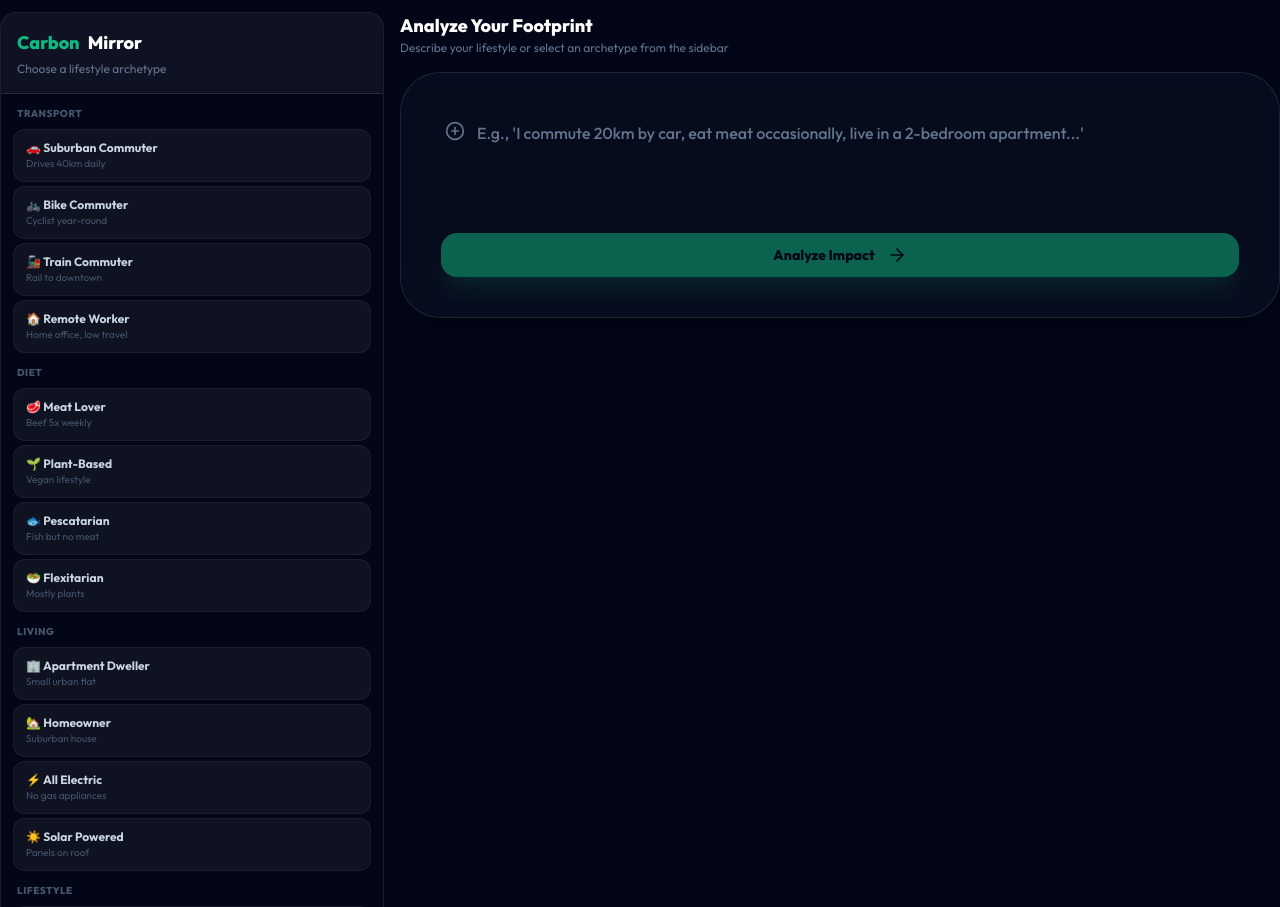
FootprintTab › displays reasoning steps during loading
Replace the text in the text box with placeholder "commute 20km" with "test" at point(850, 165), box [465, 117, 1235, 213]
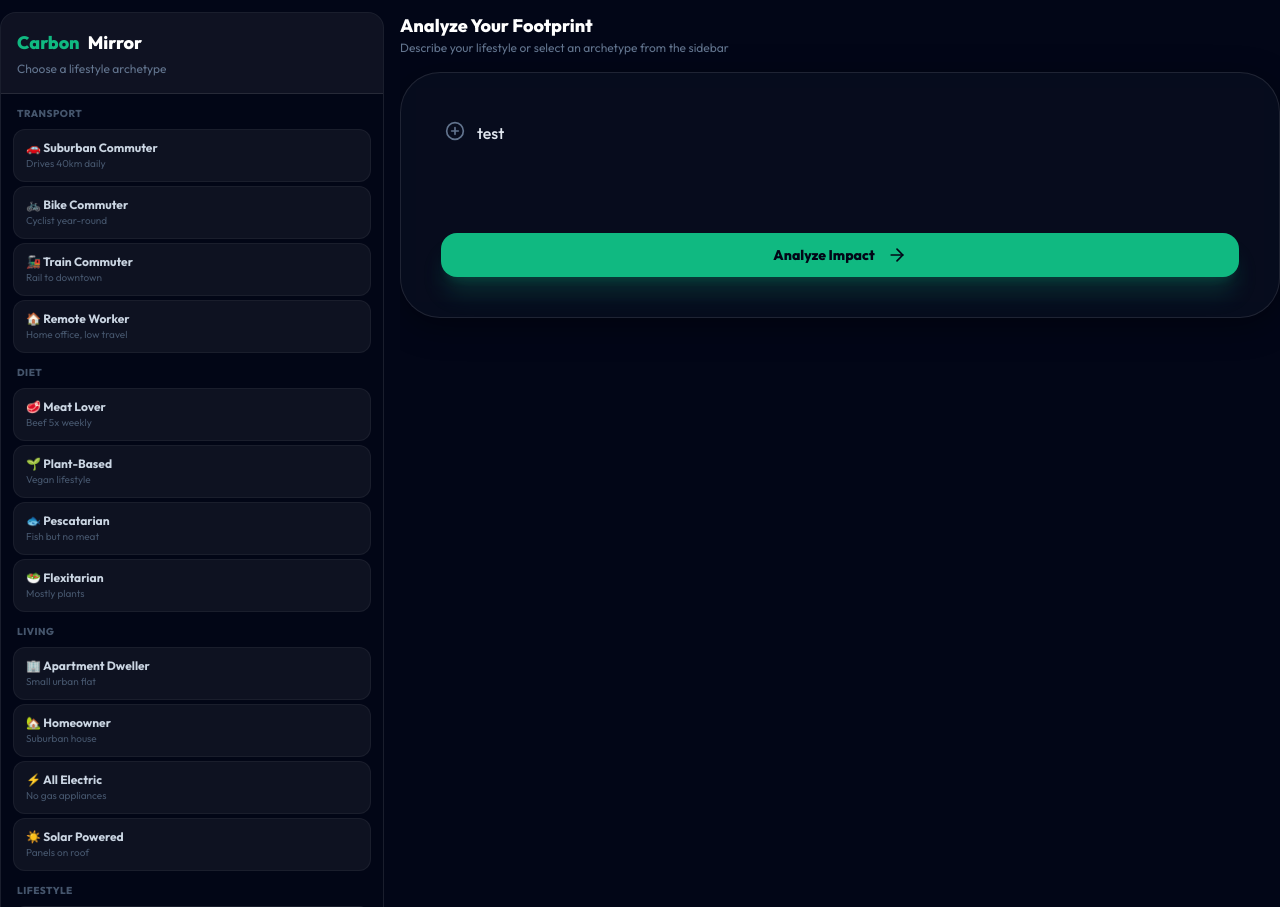
Click the button "Analyze Impact" at point(840, 255), box [441, 233, 1239, 277]
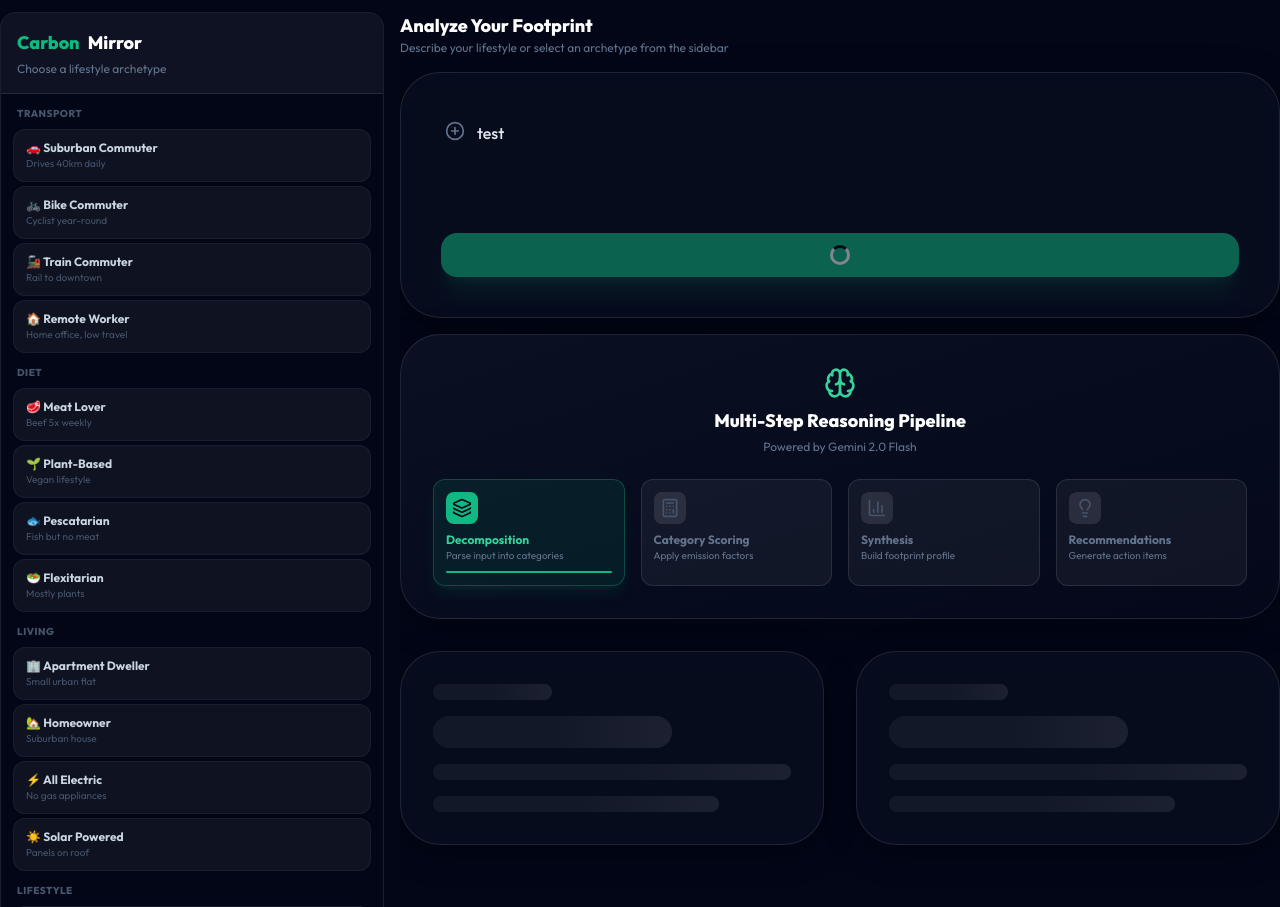
expect the heading "Multi-Step Reasoning Pipeline" is shown: met, box [714, 409, 966, 432]
